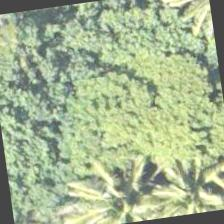Kelapa_Sawit: (45, 164, 144, 223), (30, 166, 129, 223)
